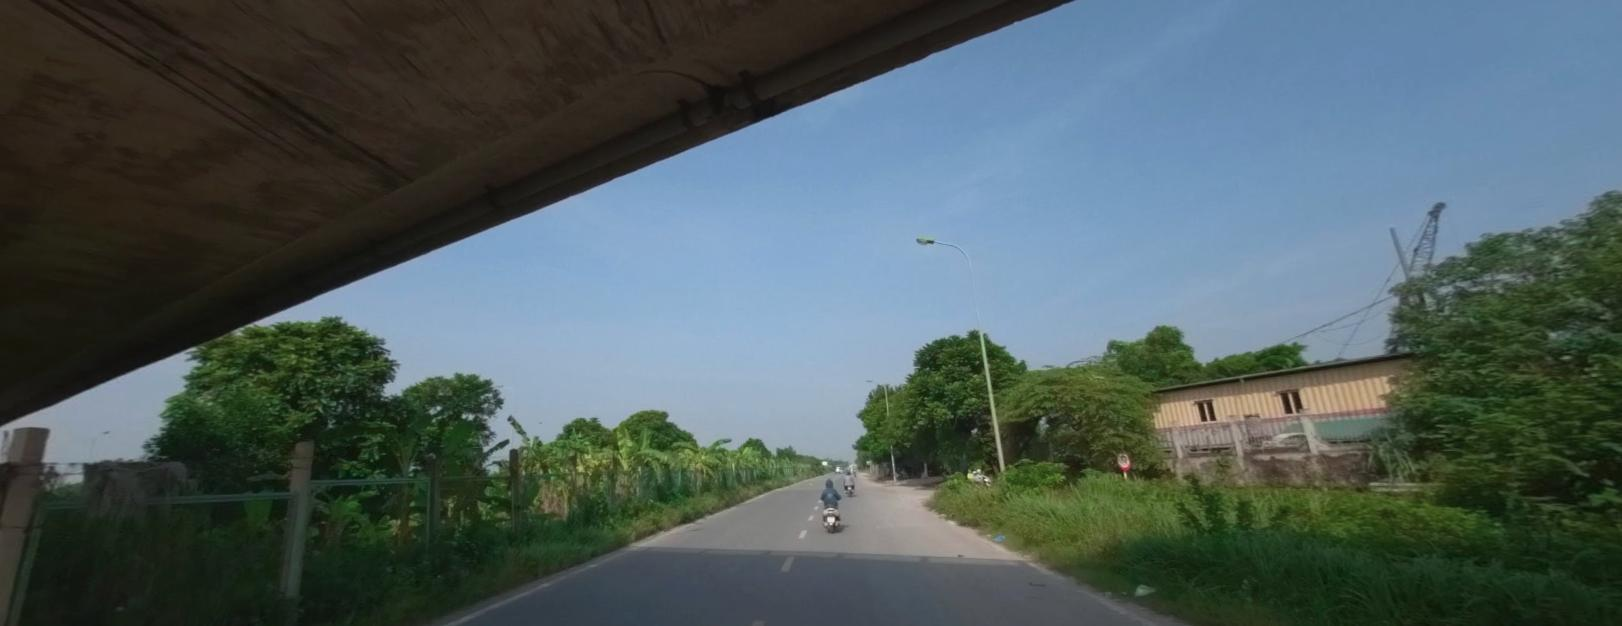Cam re: (1115, 450, 1131, 469)
